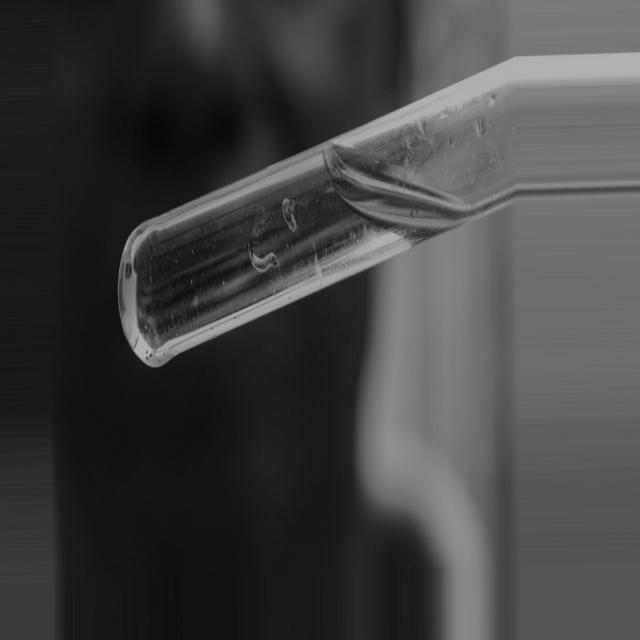larvas: (248, 251, 280, 274), (282, 200, 298, 229)
